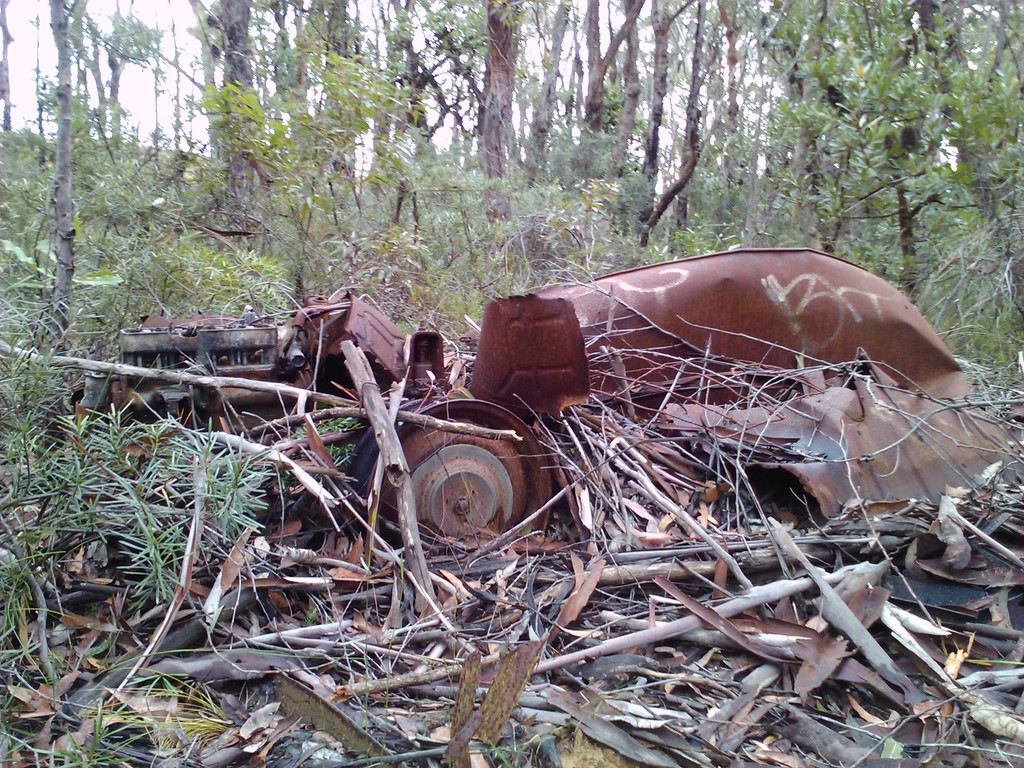Tree: (0, 0, 1024, 346)
